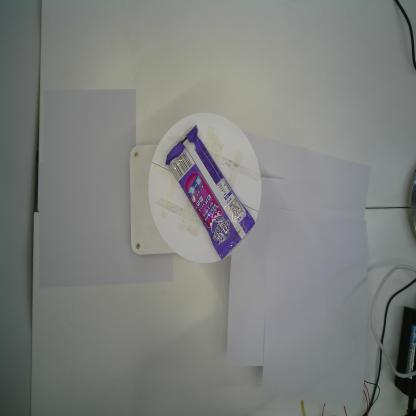Candy: (164, 124, 256, 261)
